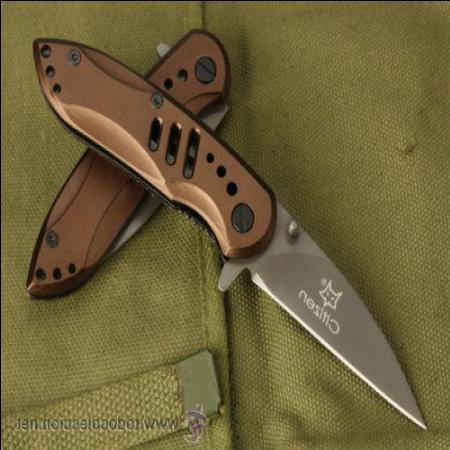long weapon: (245, 193, 432, 437)
